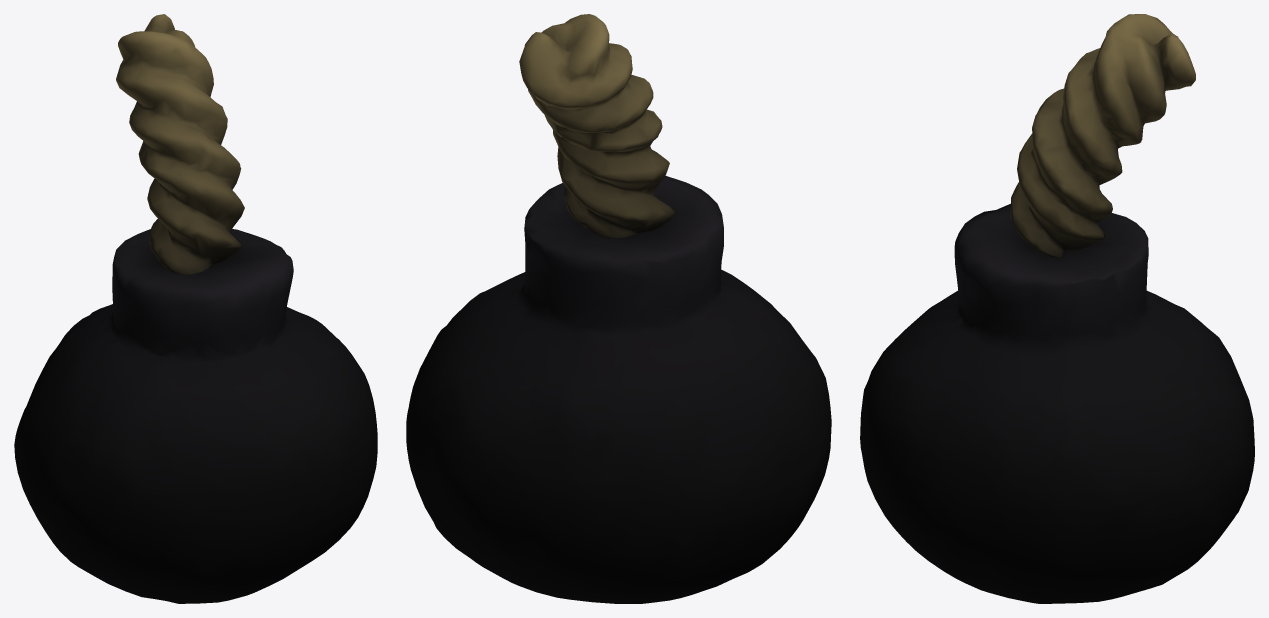
Rendered from Bomb.fbx.
3 renders of one model, left to right at view 1: azimuth 30°, elevation 25°; view 2: azimuth 150°, elevation 25°; view 3: azimuth 270°, elevation 25°, orthographic. The views are drawn at different scales.
Visible parts, largest first — view 1: Bomb; view 2: Bomb; view 3: Bomb.
Part boxes in pixels (left/top/right/bottom): Bomb: left=14, top=14, right=377, bottom=603; Bomb: left=406, top=14, right=831, bottom=603; Bomb: left=860, top=14, right=1254, bottom=603.
Bounding box in the file's own units: 1.07 × 1.68 × 1.07.
